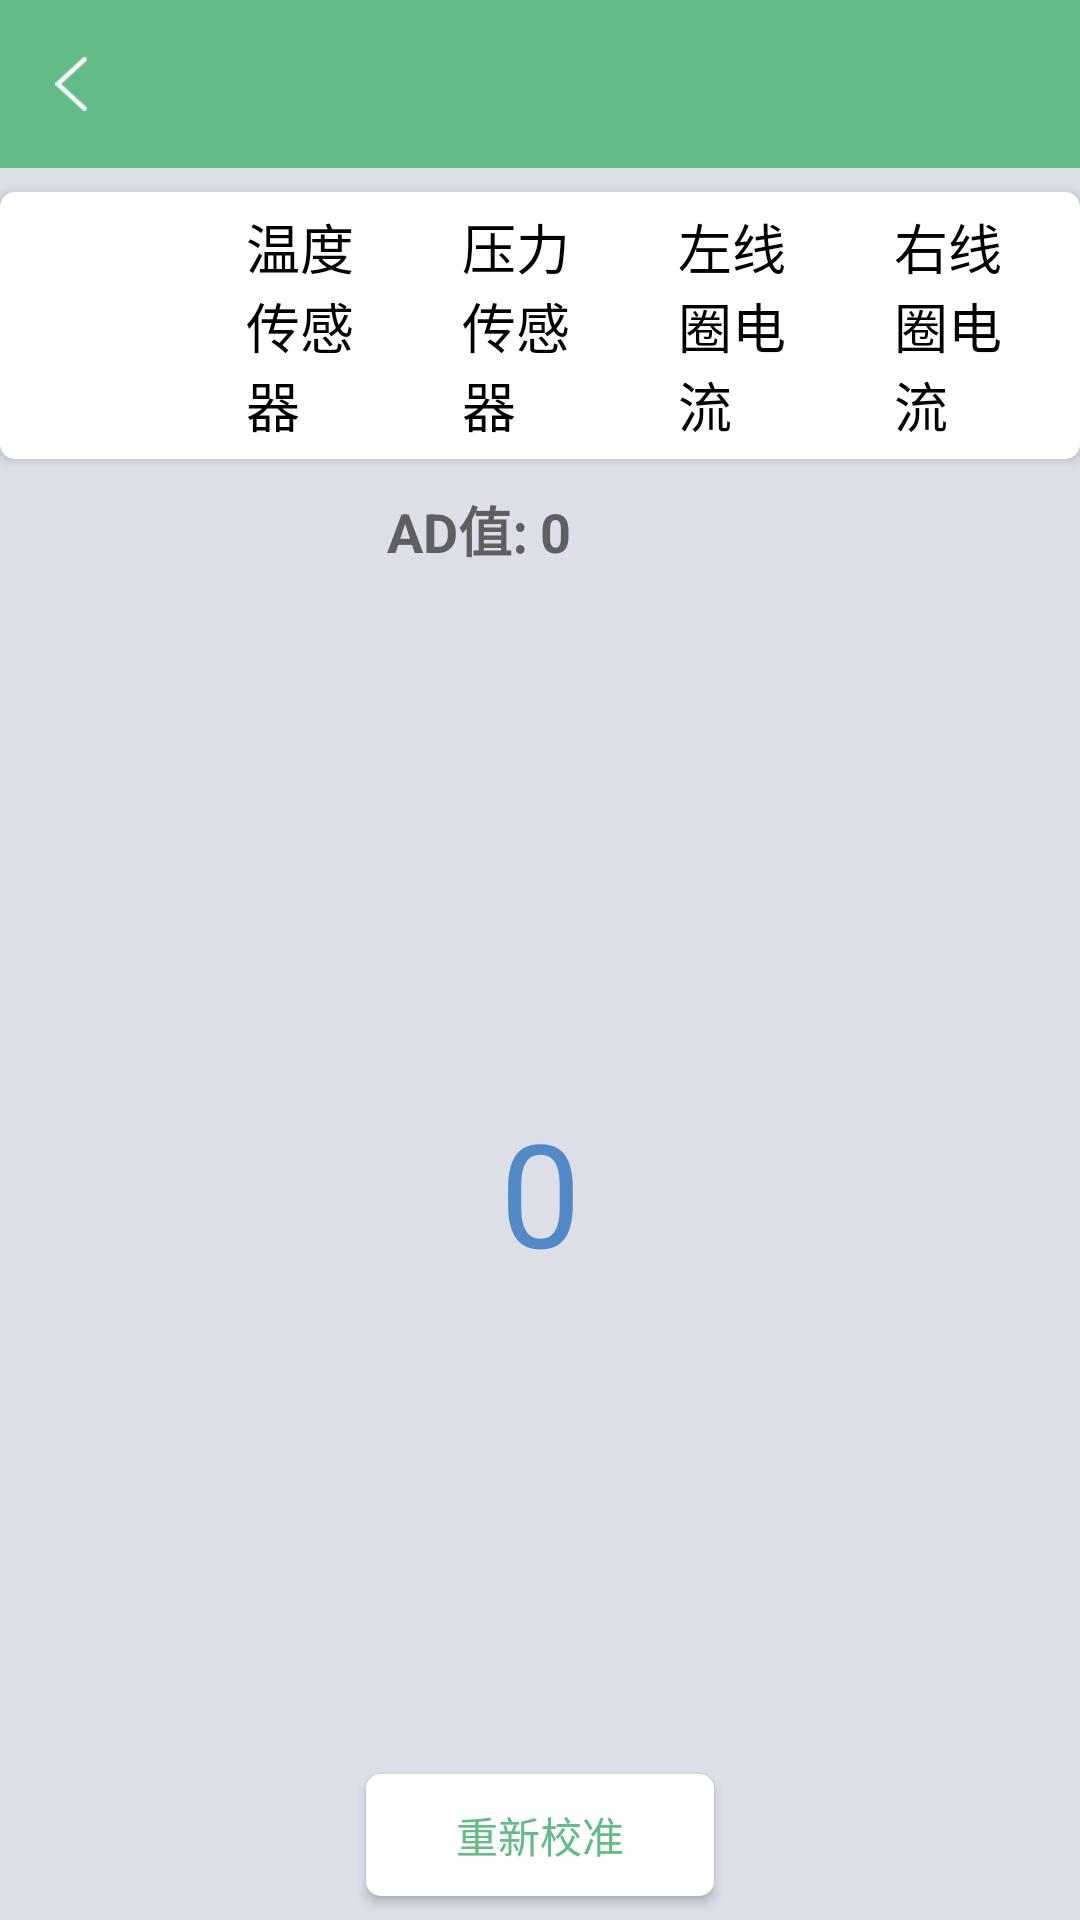

Icons on this 1080px x 1920px Android screen, each with its box as (x1, y1, x2, y2):
back: (55, 57, 87, 111)
